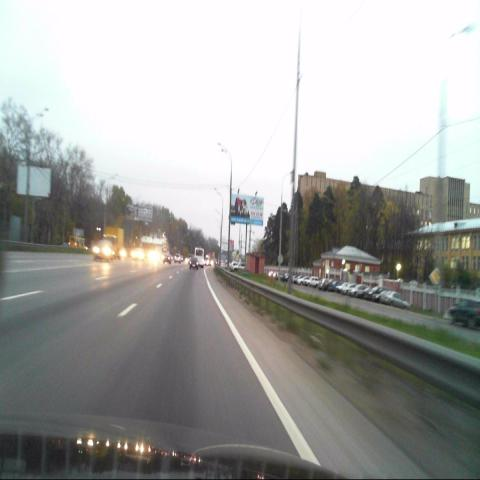2_1: (431, 268, 441, 286)
